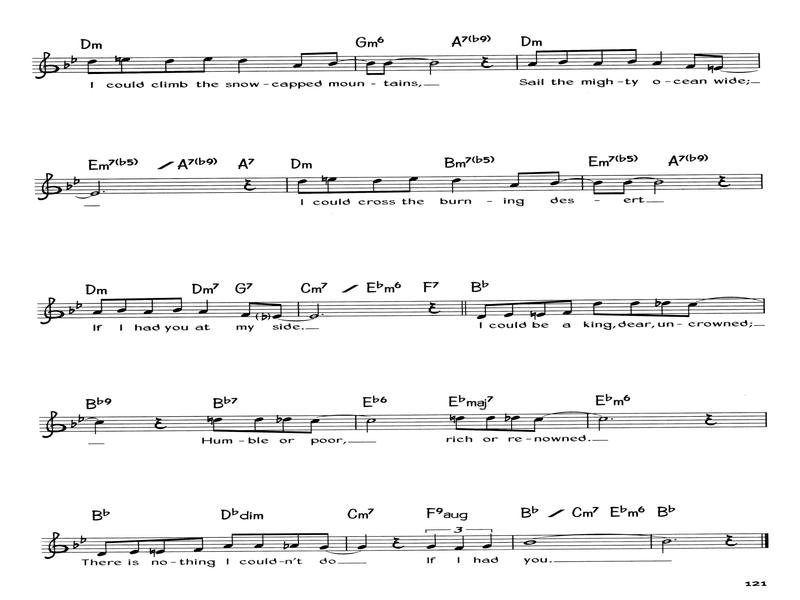B: (597, 415, 609, 432), (428, 60, 440, 77), (366, 417, 377, 434), (309, 303, 320, 320), (90, 180, 101, 197), (653, 179, 664, 196), (661, 538, 672, 554)
Bem: (653, 297, 661, 308), (282, 540, 290, 550), (70, 418, 77, 429), (71, 55, 78, 65), (68, 305, 75, 315), (76, 300, 83, 310), (78, 414, 85, 424), (72, 540, 79, 550), (260, 313, 268, 321), (73, 176, 80, 185), (80, 535, 87, 544), (64, 60, 70, 69), (67, 182, 73, 191), (504, 414, 510, 423), (276, 415, 281, 424)
C: (591, 48, 608, 67), (527, 49, 544, 67), (92, 297, 108, 315), (97, 540, 114, 556), (510, 171, 525, 189), (304, 418, 320, 434), (527, 417, 543, 433), (404, 176, 418, 194), (294, 51, 308, 69), (199, 55, 212, 74), (223, 533, 238, 549), (503, 302, 518, 318), (240, 301, 255, 317), (617, 180, 633, 195), (558, 49, 573, 65), (159, 59, 174, 75), (481, 415, 495, 432), (683, 301, 697, 318), (143, 297, 156, 315), (686, 53, 701, 68), (249, 417, 263, 433), (477, 303, 491, 319), (116, 297, 130, 313), (368, 179, 382, 195), (291, 532, 304, 549), (254, 532, 267, 549), (658, 301, 671, 318), (119, 58, 132, 75), (536, 300, 548, 318), (130, 539, 144, 554), (156, 538, 169, 554), (549, 170, 561, 187), (319, 532, 330, 550), (326, 177, 337, 195), (327, 51, 338, 69), (627, 301, 640, 316), (591, 301, 603, 317), (509, 415, 520, 432), (627, 48, 638, 64), (86, 59, 97, 75), (194, 536, 204, 553), (273, 303, 283, 320), (173, 296, 183, 313), (297, 178, 307, 195), (593, 181, 604, 196), (380, 62, 391, 77), (282, 418, 292, 434), (456, 415, 466, 431), (365, 60, 375, 76), (563, 299, 572, 316), (212, 418, 222, 433), (715, 55, 724, 71)
CS: (36, 172, 63, 201), (39, 296, 65, 326), (34, 51, 60, 80), (42, 410, 67, 439), (44, 531, 68, 560)
N: (451, 177, 463, 194), (94, 419, 105, 436), (454, 534, 465, 551), (482, 532, 493, 549), (237, 58, 248, 74), (652, 50, 663, 66), (427, 533, 437, 550), (199, 299, 209, 315), (359, 533, 368, 549)
P: (321, 313, 325, 317), (674, 538, 678, 541), (611, 417, 614, 421), (103, 190, 106, 194)
R: (524, 539, 537, 546)
